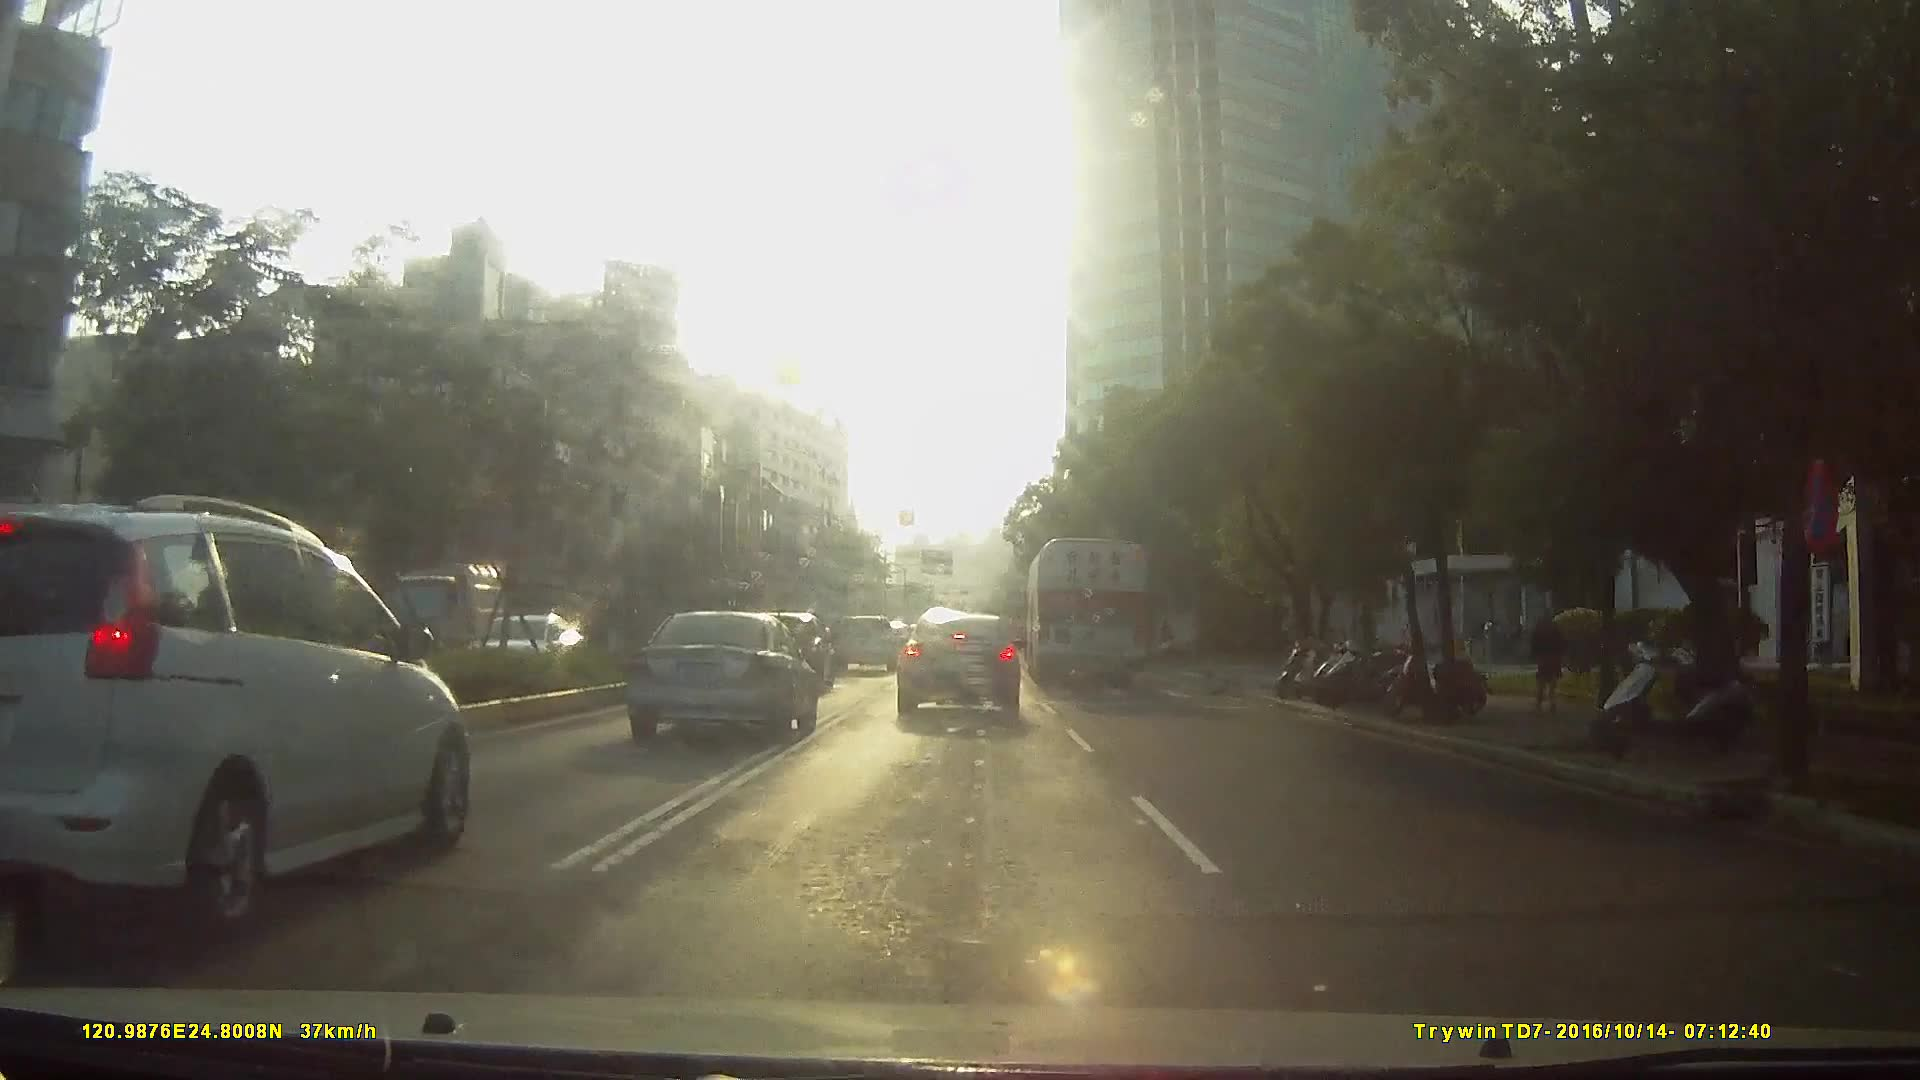pedestrian: (1527, 606, 1572, 713)
vehicle: (11, 479, 473, 952), (250, 556, 684, 868), (615, 604, 813, 743), (1022, 532, 1148, 690), (893, 601, 1023, 718), (346, 554, 485, 661), (470, 610, 589, 685), (828, 611, 896, 672)
